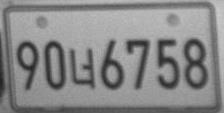0: (43, 40, 66, 90)
5: (156, 38, 180, 89)
6: (100, 38, 124, 89)
7: (126, 39, 150, 89)
8: (183, 37, 208, 89)
9: (15, 40, 39, 90)
너: (69, 47, 95, 88)
